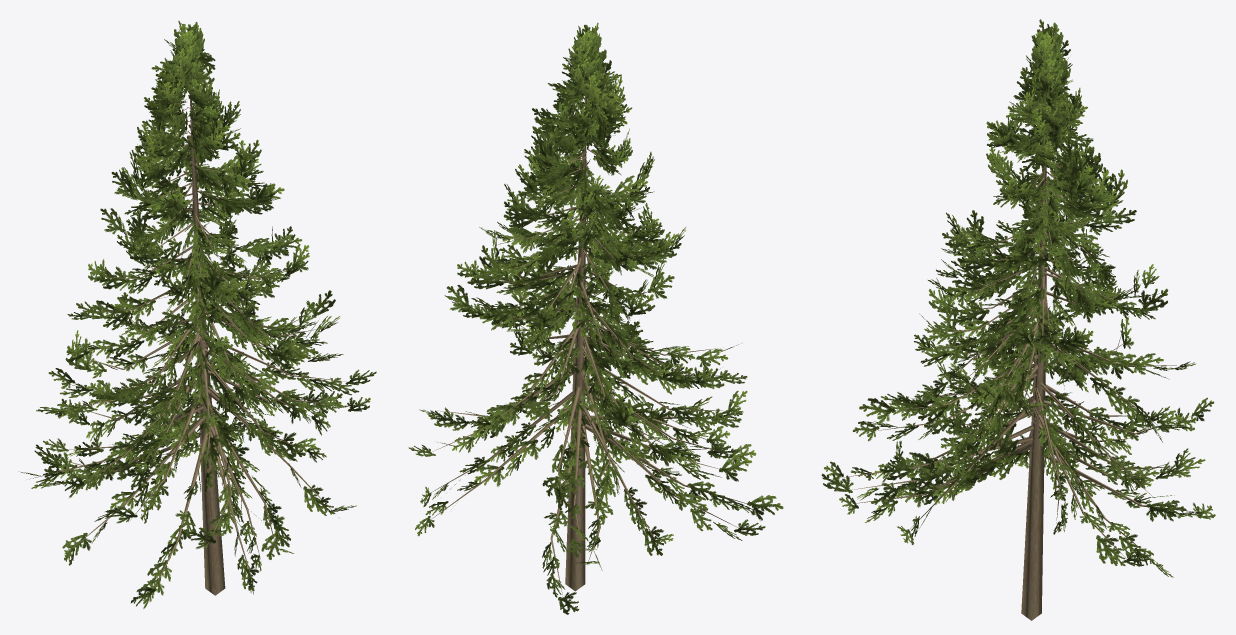
File: tree_LOD2.glb
3 renders of one model, left to right at view 1: azimuth 30°, elevation 25°; view 2: azimuth 150°, elevation 25°; view 3: azimuth 270°, elevation 25°, orthographic. The views are drawn at different scales.
Parts seen in each view (by area): view 1: Leaves_LOD2, Branches_LOD2; view 2: Leaves_LOD2, Branches_LOD2; view 3: Leaves_LOD2, Branches_LOD2.
Part boxes in pixels (x1=…): Leaves_LOD2: x1=19, y1=20, x2=376, y2=608; Branches_LOD2: x1=29, y1=78, x2=356, y2=598; Leaves_LOD2: x1=408, y1=22, x2=783, y2=614; Branches_LOD2: x1=428, y1=89, x2=751, y2=597; Leaves_LOD2: x1=821, y1=19, x2=1215, y2=577; Branches_LOD2: x1=837, y1=87, x2=1197, y2=620.
Size of the model in its own units: 39.98 by 68.95 by 43.8.
2 materials, 2 textured.
